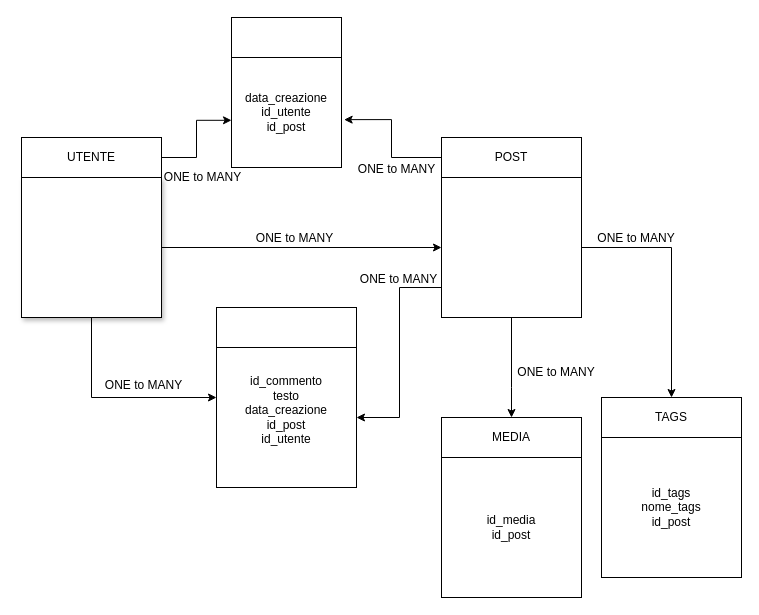
This 759x615 diagram has some shape labels left out. The shapes that lost their labels are listed below. From the top down, each one's centre as x and y in pixels, then its label:
the point at 286,37: like
the point at 92,248: id_utente nome data_di_nascita email password data_creazione
the point at 511,247: id_post contenuto data_creazione id_utente
the point at 286,327: COMMENTI
